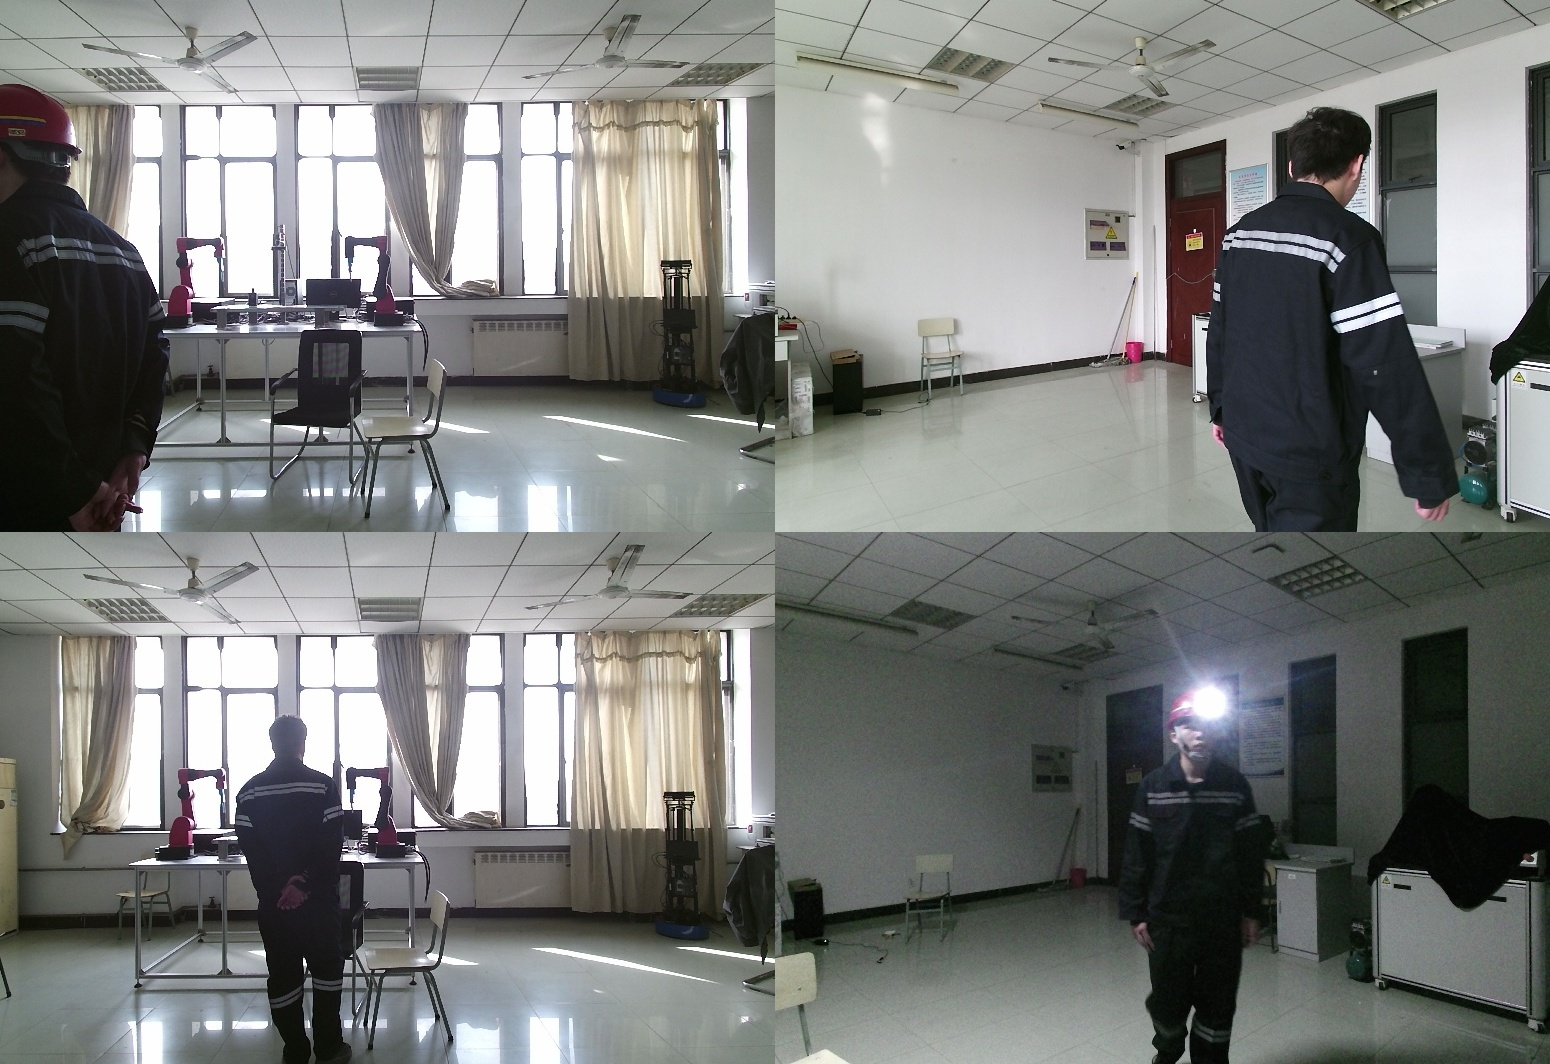person: (1215, 106, 1489, 532), (1, 83, 168, 532), (1117, 693, 1269, 1064), (233, 717, 361, 1064)
